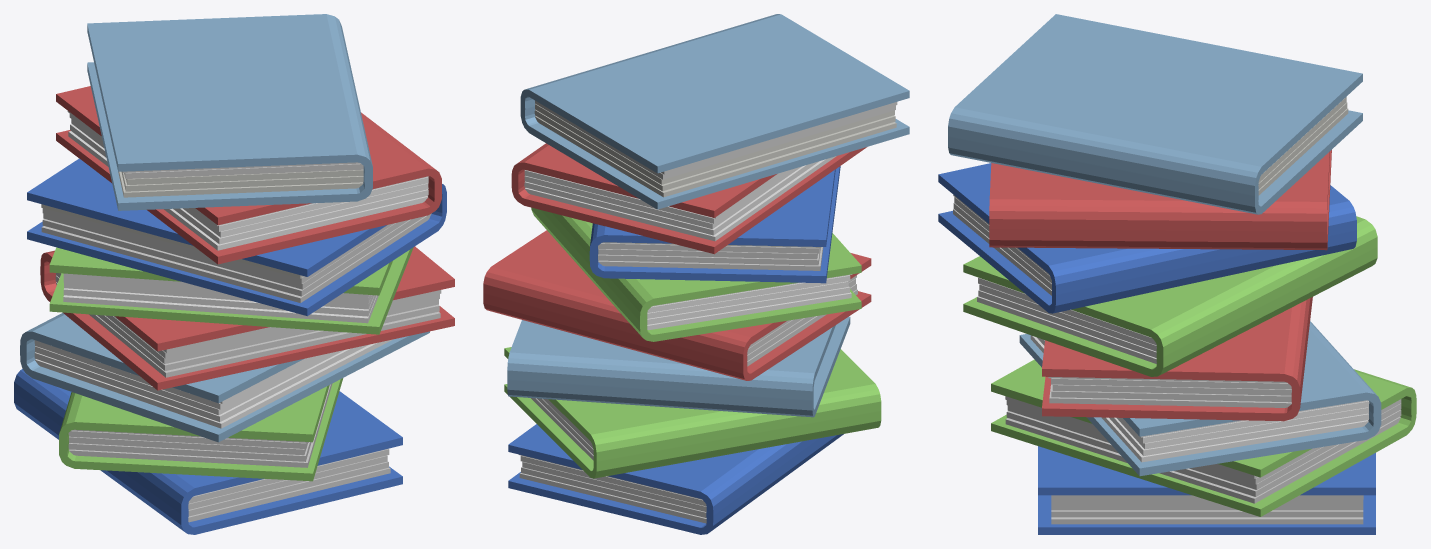
The model's file is book8.fbx.
3 views of the same model, side by side, from view 1: azimuth 30°, elevation 25°; view 2: azimuth 150°, elevation 25°; view 3: azimuth 270°, elevation 25° (orthographic). The views are drawn at different scales.
Visible parts, largest first — view 1: book 8, book 6, book 1, book 4, book 7, book 3, book 2, book 5, Cube.028, Cube.029, Cube.017, Cube.016 (+31 smaller); view 2: book 8, book 3, book 2, book 4, book 1, book 5, book 6, book 7, Cube.043, Cube.042, Cube.044, Cube.041 (+17 smaller); view 3: book 8, book 7, book 5, book 6, book 4, book 1, book 2, book 3, Cube.005, Cube.000, Cube.004, Cube.006 (+22 smaller).
Boxes of the visible parts, x1=… form: book 8: x1=87, y1=14, x2=372, y2=210; book 6: x1=27, y1=158, x2=446, y2=316; book 1: x1=14, y1=369, x2=402, y2=534; book 4: x1=40, y1=246, x2=454, y2=390; book 7: x1=56, y1=86, x2=441, y2=264; book 3: x1=20, y1=313, x2=429, y2=442; book 2: x1=59, y1=378, x2=343, y2=481; book 5: x1=49, y1=247, x2=413, y2=334; Cube.028: x1=42, y1=216, x2=424, y2=296; Cube.029: x1=41, y1=213, x2=431, y2=302; Cube.017: x1=35, y1=339, x2=392, y2=428; Cube.016: x1=34, y1=344, x2=369, y2=422; book 8: x1=520, y1=14, x2=909, y2=209; book 3: x1=507, y1=316, x2=850, y2=417; book 2: x1=504, y1=347, x2=881, y2=478; book 4: x1=483, y1=230, x2=871, y2=380; book 1: x1=508, y1=424, x2=843, y2=534; book 5: x1=531, y1=207, x2=861, y2=341; book 6: x1=589, y1=166, x2=840, y2=283; book 7: x1=511, y1=143, x2=866, y2=254; Cube.043: x1=534, y1=109, x2=895, y2=191; Cube.042: x1=535, y1=116, x2=896, y2=197; Cube.044: x1=535, y1=104, x2=894, y2=184; Cube.041: x1=524, y1=156, x2=836, y2=241; book 8: x1=948, y1=14, x2=1362, y2=214; book 7: x1=989, y1=150, x2=1331, y2=250; book 5: x1=963, y1=216, x2=1377, y2=376; book 6: x1=938, y1=163, x2=1356, y2=313; book 4: x1=1042, y1=297, x2=1312, y2=421; book 1: x1=1038, y1=446, x2=1375, y2=534; book 2: x1=991, y1=359, x2=1416, y2=516; book 3: x1=1019, y1=321, x2=1381, y2=476; Cube.005: x1=1051, y1=517, x2=1363, y2=524; Cube.000: x1=1005, y1=416, x2=1400, y2=503; Cube.004: x1=1051, y1=510, x2=1363, y2=517; Cube.006: x1=1006, y1=410, x2=1401, y2=496.
Size of the model in its own units: 356 by 350 by 394.
